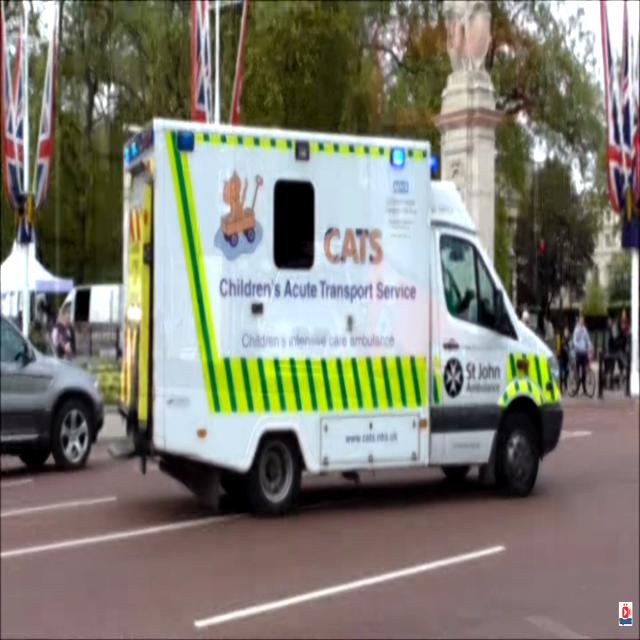emergency-vehicles: (107, 86, 564, 536)
